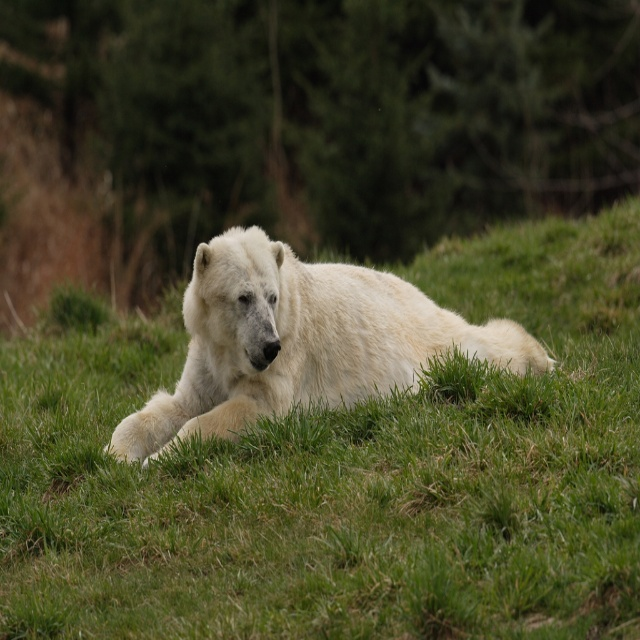Polar bear: (102, 216, 556, 462)
